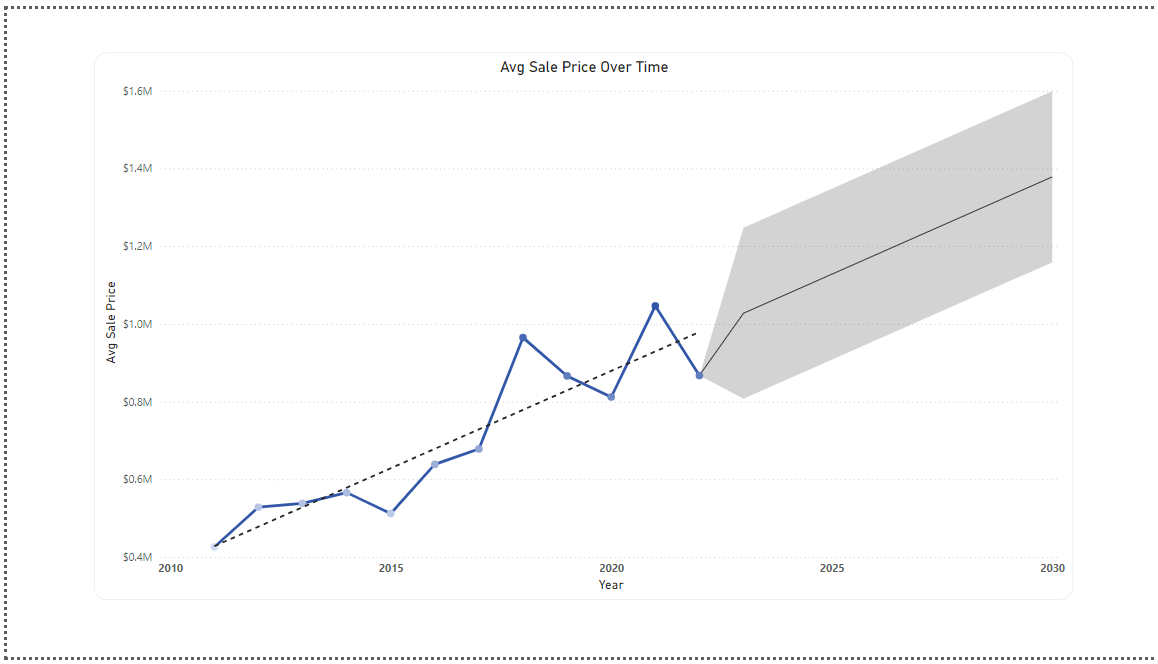

What the dashboard file says about the page in this screenshot:
{"tool":"powerbi","page":{"name":"Forcasting","canvas":[1280,720],"ordinal":2},"visuals":[{"type":"lineChart","title":"Avg Sale Price Over Time","fields":{"Category":["denver_property_sales.SALE_YEAR"],"Y":["denver_property_sales.Avg Sale Price"]},"box":[96,48,1088,608],"z":0}]}

Visuals, with their boxes in screenshot pixels (x1, y1, x2, y2), scaled from the page's 1280x720 canvas onto the 1158x664 screenshot:
"Avg Sale Price Over Time" lineChart: box(87, 44, 1071, 605)
